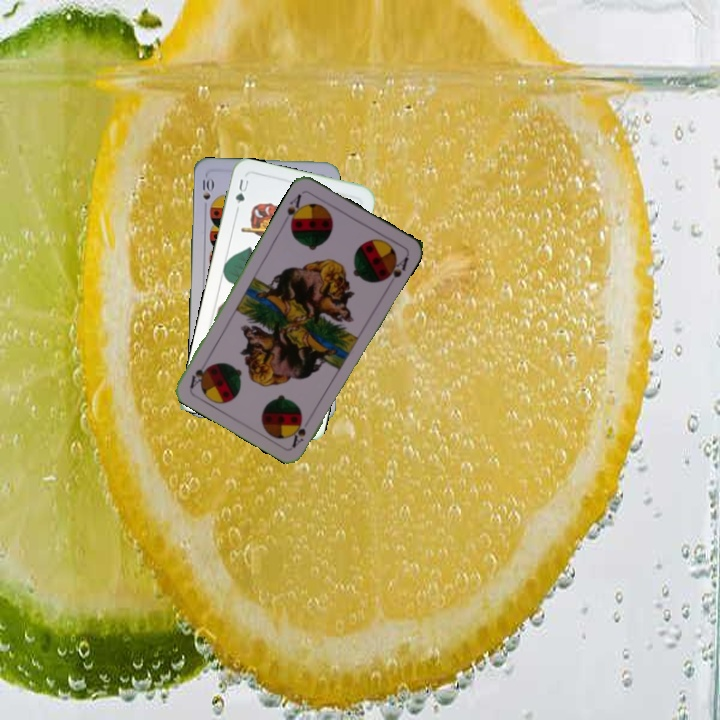GU: (231, 175, 251, 213)
S10: (198, 172, 215, 213)
SA: (279, 190, 306, 229), (287, 415, 309, 450)
